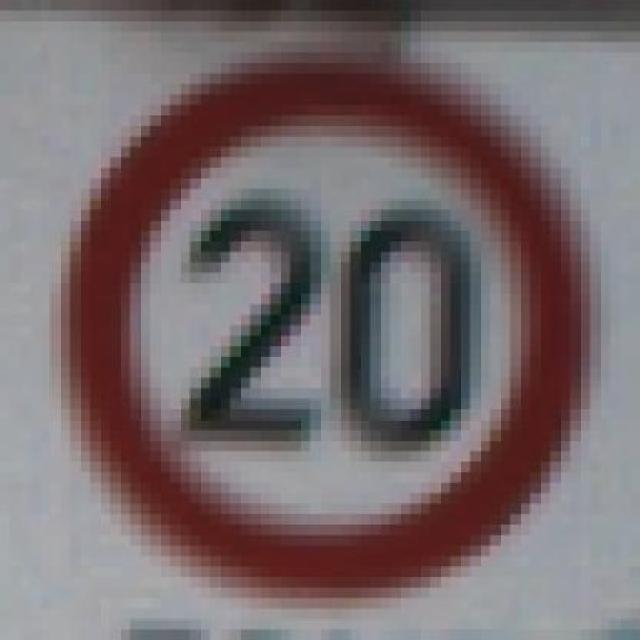forb_speed_over_20: (67, 57, 585, 592)
